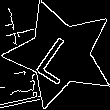L_NE: (32, 25, 88, 84)
